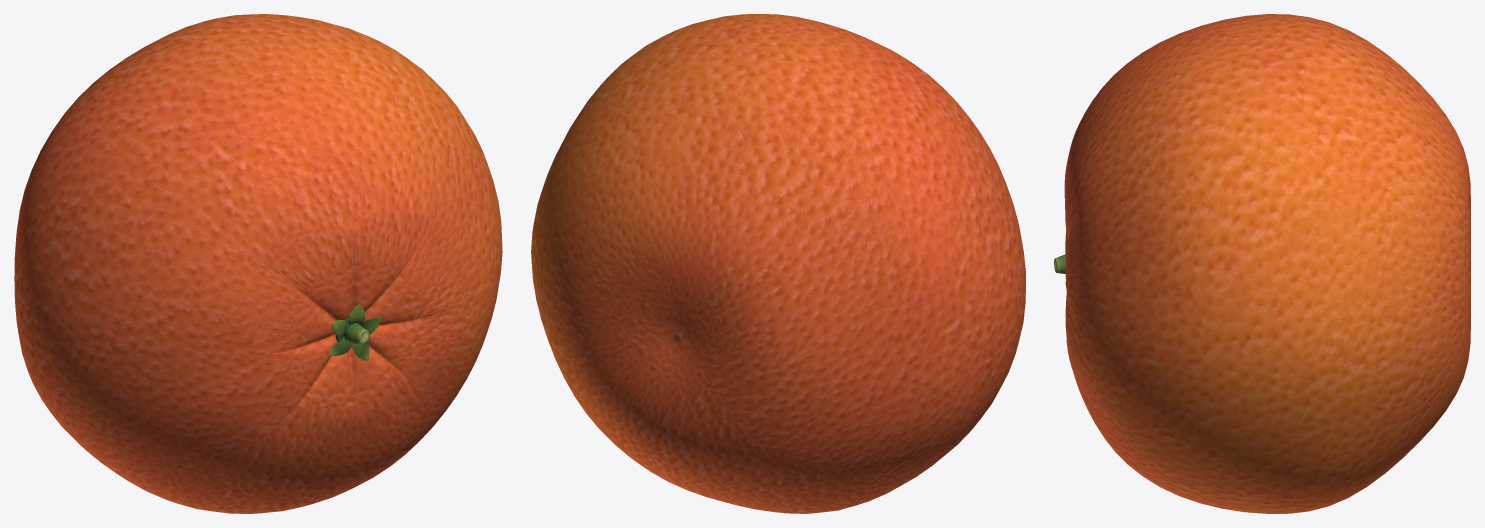
Rendered from orange.obj.
3 views of the same model, side by side, from view 1: azimuth 30°, elevation 25°; view 2: azimuth 150°, elevation 25°; view 3: azimuth 270°, elevation 25° (orthographic).
Visible parts, largest first — view 1: Fruit; view 2: Fruit; view 3: Fruit.
Part boxes in pixels (x1=…): Fruit: x1=14, y1=14, x2=502, y2=513; Fruit: x1=531, y1=14, x2=1025, y2=513; Fruit: x1=1054, y1=14, x2=1470, y2=513.
Size of the model in its own units: 9.52 by 9.53 by 7.87.
1 material, 1 textured.
